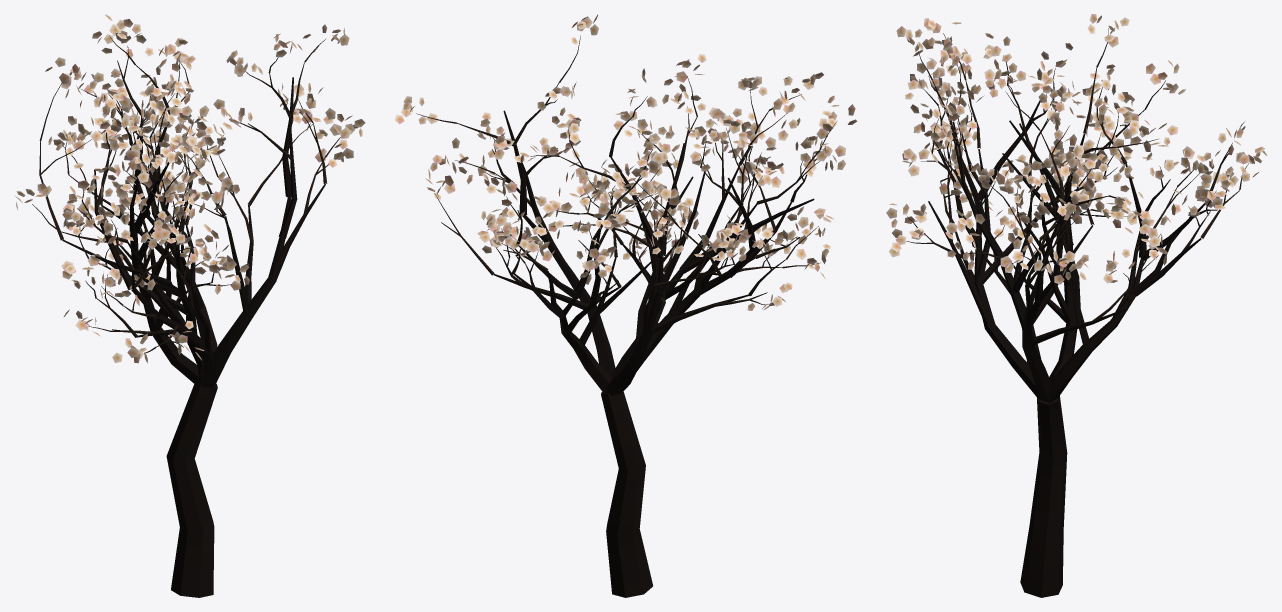
File: tea-plum-tree.glb
The picture shows the model from 3 angles, left to right: view 1: azimuth 30°, elevation 25°; view 2: azimuth 150°, elevation 25°; view 3: azimuth 270°, elevation 25°; orthographic projection. The views are drawn at different scales.
Visible parts, largest first — view 1: branches__wood, blossoms__petal; view 2: branches__wood, blossoms__petal; view 3: branches__wood, blossoms__petal.
Boxes of the visible parts, x1,y1,x2,y2 form: branches__wood: (32,35,340,597); blossoms__petal: (14,14,365,363); branches__wood: (416,35,836,597); blossoms__petal: (394,14,857,310); branches__wood: (906,28,1248,597); blossoms__petal: (886,14,1267,284).
Bounding box in the file's own units: 2.5 × 3.65 × 2.27.
